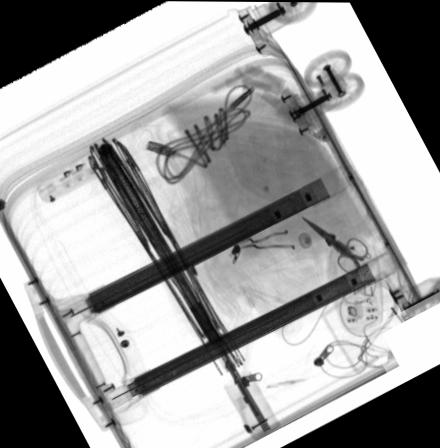Scissors: (300, 214, 369, 275)
